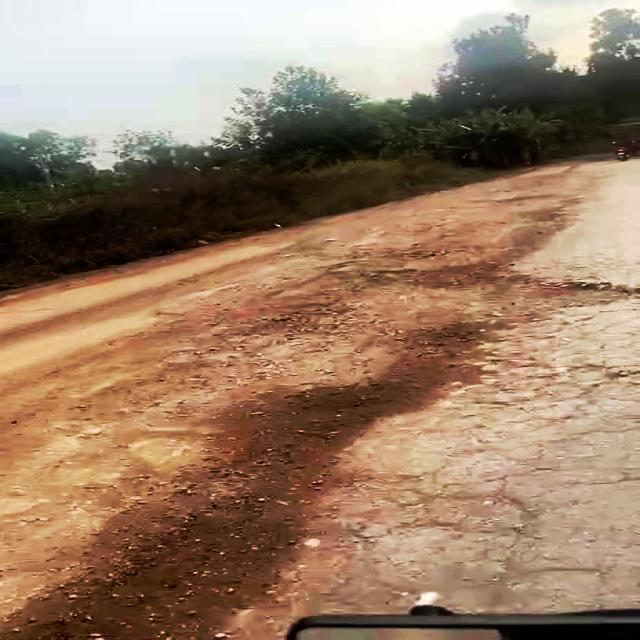pothole: (12, 503, 334, 640), (481, 274, 640, 312)
